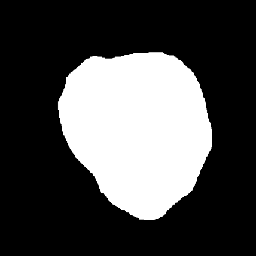mass: (58, 56, 195, 170)
